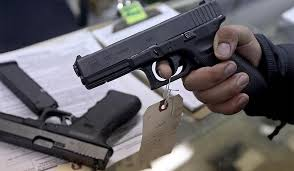gun: (79, 6, 225, 84), (7, 69, 123, 155)
